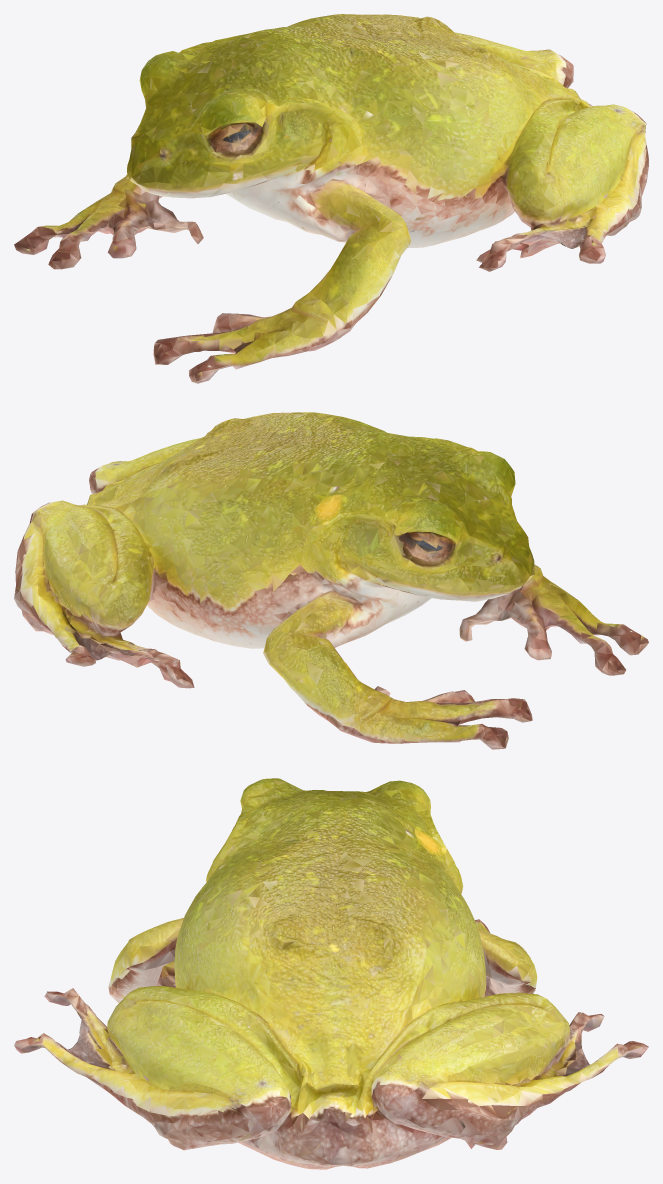
The model's file is Frog_lowpoly200.glb.
The picture shows the model from 3 angles, top to bottom: view 1: azimuth 30°, elevation 25°; view 2: azimuth 150°, elevation 25°; view 3: azimuth 270°, elevation 25°; orthographic projection. The views are drawn at different scales.
Visible parts, largest first — view 1: Q12268-1-1_1; view 2: Q12268-1-1_1; view 3: Q12268-1-1_1.
Boxes of the visible parts, x1=… form: Q12268-1-1_1: x1=14, y1=14, x2=648, y2=383; Q12268-1-1_1: x1=14, y1=412, x2=648, y2=749; Q12268-1-1_1: x1=14, y1=778, x2=648, y2=1169.
Size of the model in its own units: 11.32 by 4.84 by 11.36.
Materials: 1 (1 with a texture image).
